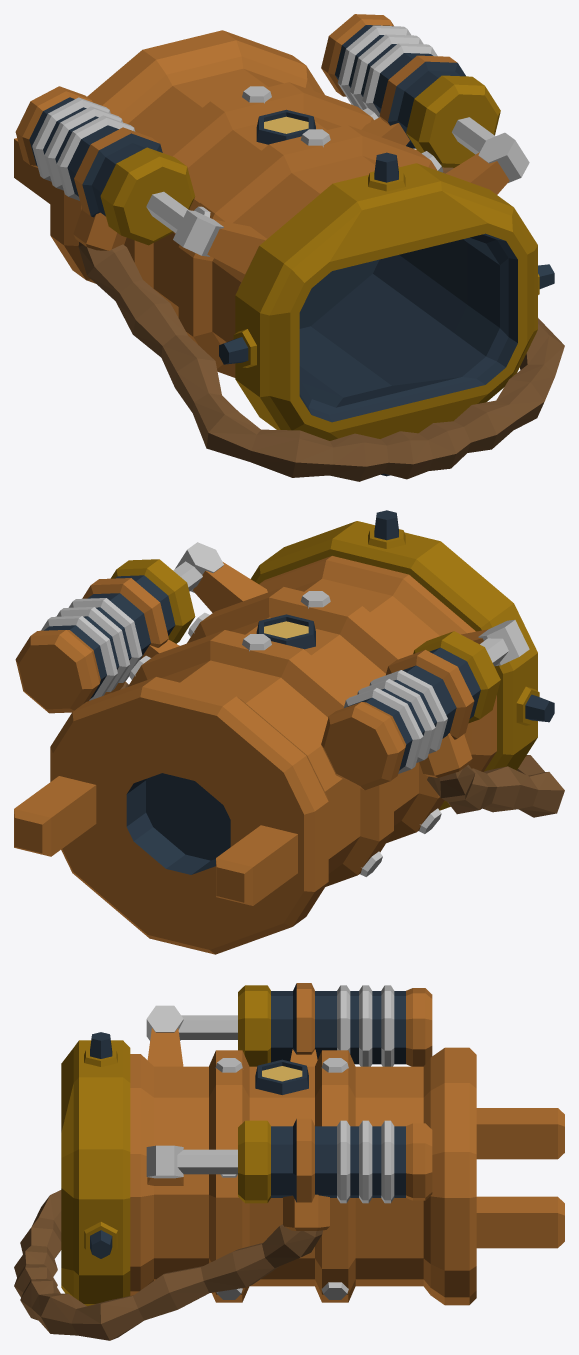
File: small-mechanical-plating-f9901a.glb
3 views of the same model, one above another, from view 1: azimuth 30°, elevation 25°; view 2: azimuth 150°, elevation 25°; view 3: azimuth 270°, elevation 25° (orthographic). The views are drawn at different scales.
Parts seen in each view (by area): view 1: wrist; view 2: wrist; view 3: wrist.
Boxes of the visible parts, bbox=[...] form: wrist: bbox=[14, 14, 564, 481]; wrist: bbox=[14, 510, 564, 954]; wrist: bbox=[14, 983, 564, 1340].
Bounding box in the file's own units: 0.0925 × 0.0707 × 0.1247.
